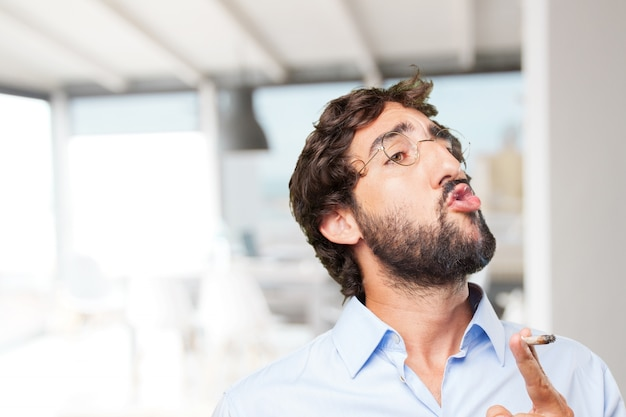cigarette: (522, 331, 558, 348)
